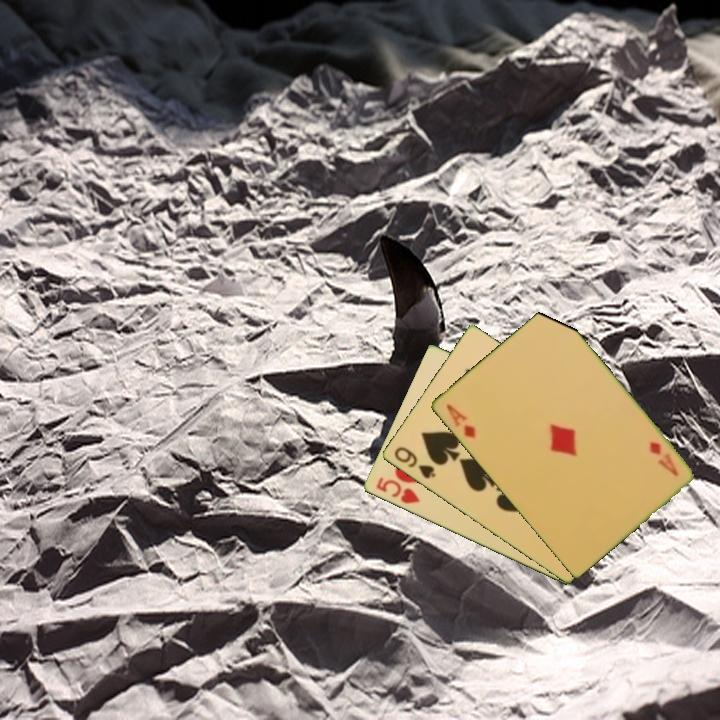5h: (372, 474, 422, 507)
9s: (390, 443, 438, 482)
Ad: (442, 400, 478, 442), (645, 438, 681, 479)
